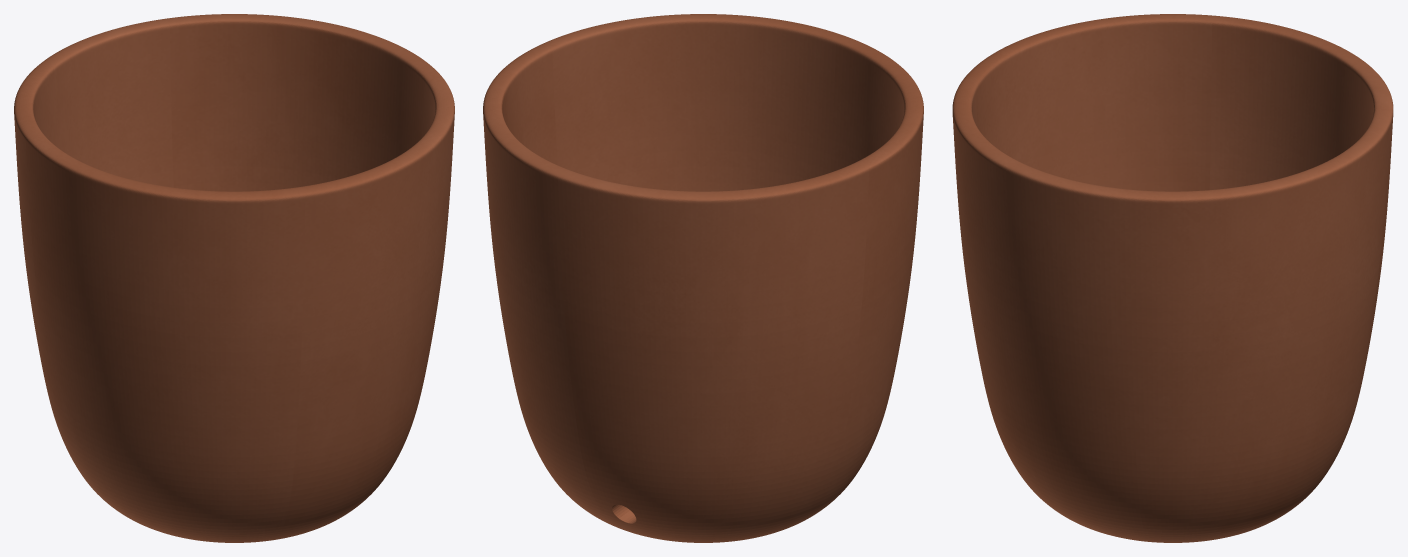
3 views of the same model, side by side, from view 1: azimuth 30°, elevation 25°; view 2: azimuth 150°, elevation 25°; view 3: azimuth 270°, elevation 25° (orthographic).
Parts seen in each view (by area): view 1: Cylinder.001; view 2: Cylinder.001; view 3: Cylinder.001.
Boxes of the visible parts, x1,y1,x2,y2 form: Cylinder.001: (14,14,454,542); Cylinder.001: (483,14,923,542); Cylinder.001: (952,14,1393,542).
Size of the model in its own units: 4.53 by 4.52 by 4.53.
1 material, 1 textured.
